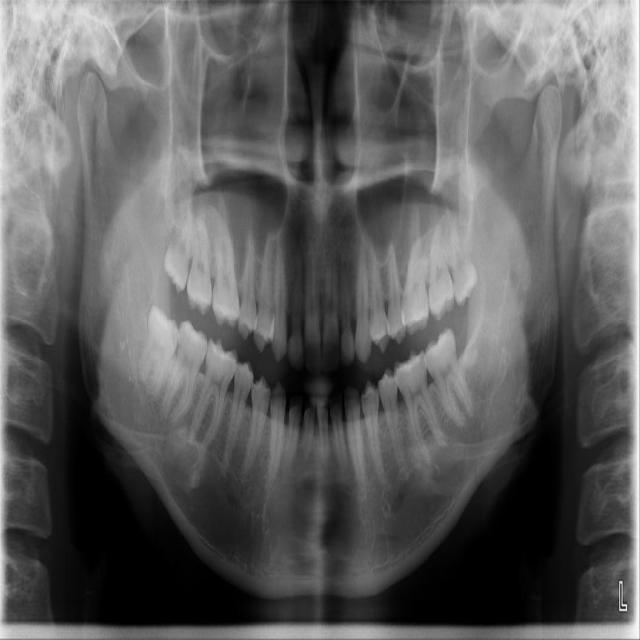3M ESPE Implant: (160, 183, 199, 295)
73: (562, 562, 582, 563)
BioHorizons Implant: (429, 206, 455, 322)
BioLife Implant: (435, 203, 483, 307)
Blue Sky Bio Implant: (416, 325, 479, 431)
Caries: (181, 206, 214, 317)
Implant: (158, 320, 213, 428)
Keystone Dental Implant: (133, 304, 186, 396)
